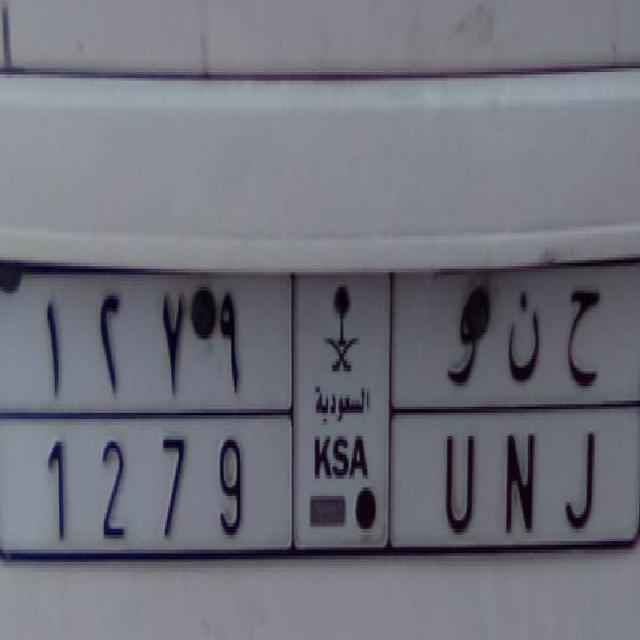license_plate: (3, 409, 626, 576)
